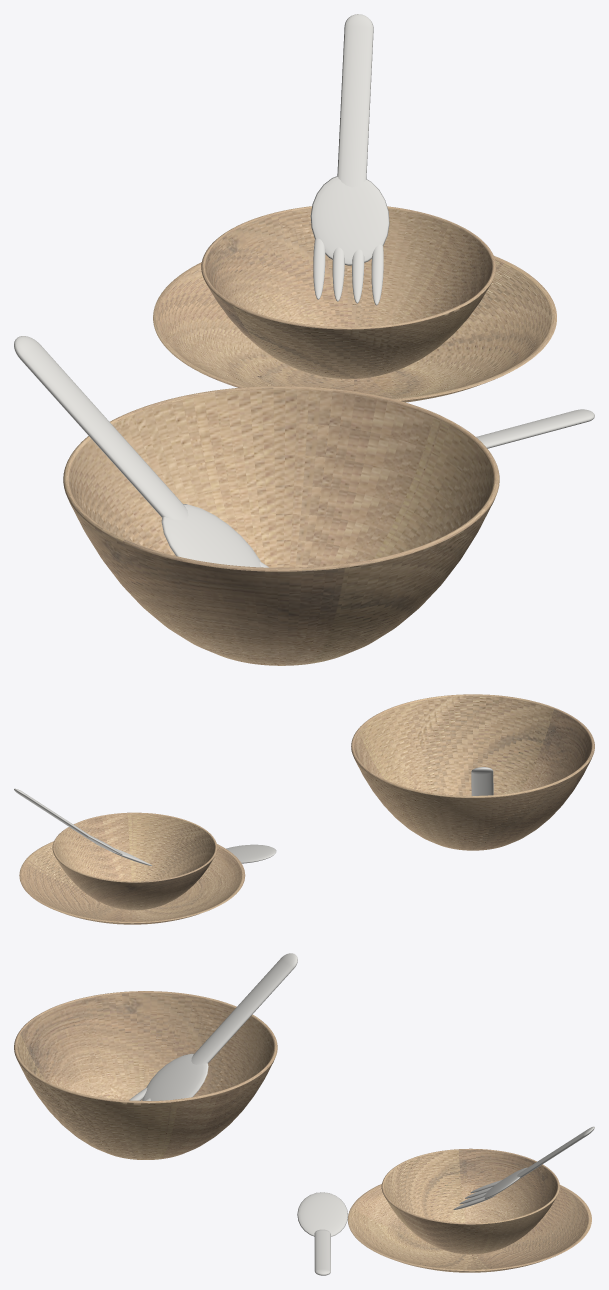
Rendered from wooden-salad-bowl-and-cutlery-scene-light-oak.glb.
3 views of the same model, one above another, from view 1: azimuth 30°, elevation 25°; view 2: azimuth 150°, elevation 25°; view 3: azimuth 270°, elevation 25° (orthographic). The views are drawn at different scales.
Visible parts, largest first — view 1: Groupe#54 (×2), Groupe#1, Grouper 8#10, Grouper 8#8, Grouper 8#12; view 2: Groupe#54 (×2), Groupe#1, Grouper 8#10, Grouper 8#12, Grouper 8#8; view 3: Groupe#54 (×2), Groupe#1, Grouper 8#8, Grouper 8#12, Grouper 8#10.
Part boxes in pixels (x1,y1,x2,y2): Groupe#54 (×2): (63, 206, 499, 665); Groupe#1: (153, 256, 556, 402); Grouper 8#10: (310, 14, 389, 305); Grouper 8#8: (14, 336, 268, 567); Grouper 8#12: (476, 409, 594, 448); Groupe#54 (×2): (52, 694, 594, 910); Groupe#1: (19, 841, 245, 924); Grouper 8#10: (14, 788, 152, 865); Grouper 8#12: (226, 844, 276, 863); Grouper 8#8: (471, 767, 493, 795); Groupe#54 (×2): (14, 991, 559, 1254); Groupe#1: (347, 1184, 591, 1272); Grouper 8#8: (129, 953, 297, 1100); Grouper 8#12: (297, 1192, 347, 1275); Grouper 8#10: (453, 1126, 594, 1209).
Bounding box in the file's own units: 0.3786 × 0.1275 × 0.4467.
4 materials, 2 textured.
